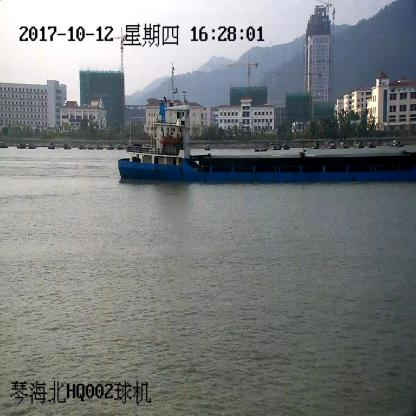Bulk Carrier: (117, 66, 416, 186)
